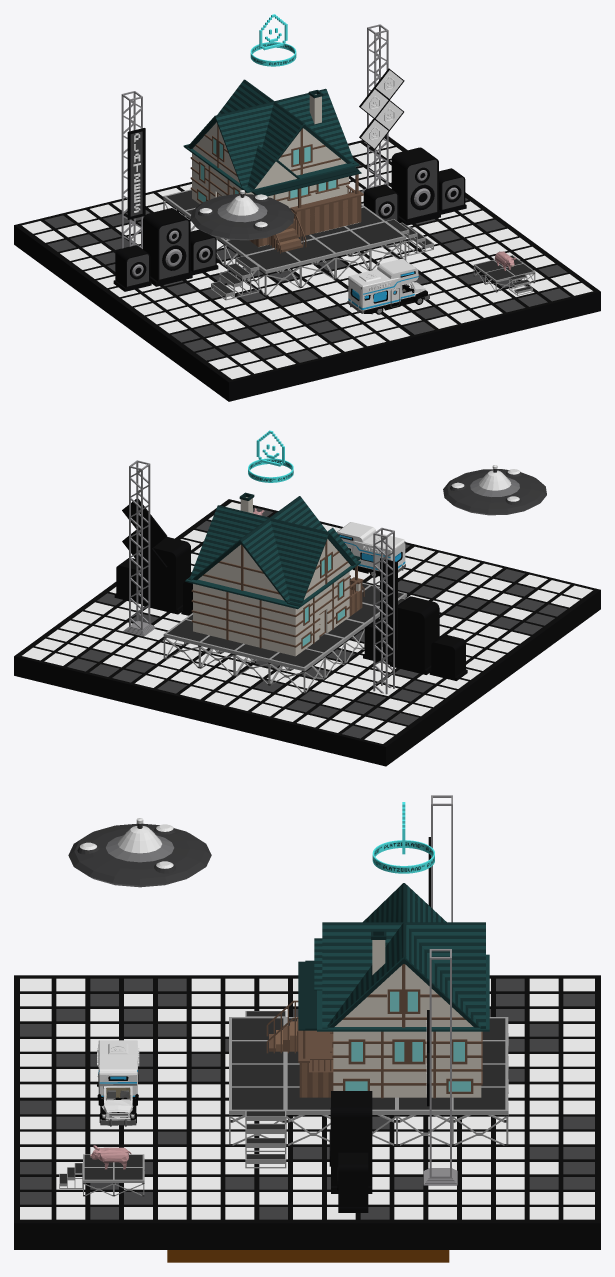
3 views of the same model, one above another, from view 1: azimuth 30°, elevation 25°; view 2: azimuth 150°, elevation 25°; view 3: azimuth 270°, elevation 25° (orthographic). The views are drawn at different scales.
Visible parts, largest first — view 1: Cube.008, Cube.793, OBJRANDOM_UFO, VEHICLES_CAMPER, TYPE_PREMIUM; view 2: Cube.008, Cube.793, OBJRANDOM_UFO, VEHICLES_CAMPER, TYPE_PREMIUM; view 3: Cube.008, Cube.793, OBJRANDOM_UFO, UNDERGROUND_ART_PIECE_VAN_GOGH, VEHICLES_CAMPER, TYPE_PREMIUM, ANIMAL_CERDO.
Boxes of the visible parts, x1,y1,x2,y2 form: Cube.008: (14,24,600,401); Cube.793: (183,79,363,253); OBJRANDOM_UFO: (190,190,294,240); VEHICLES_CAMPER: (347,258,429,314); TYPE_PREMIUM: (250,14,296,66); Cube.008: (14,460,600,766); Cube.793: (185,492,364,656); OBJRANDOM_UFO: (443,465,546,515); VEHICLES_CAMPER: (336,522,405,577); TYPE_PREMIUM: (248,430,293,482); Cube.008: (14,795,600,1249); Cube.793: (266,883,489,1098); OBJRANDOM_UFO: (68,818,211,887); UNDERGROUND_ART_PIECE_VAN_GOGH: (167,1250,449,1262); VEHICLES_CAMPER: (97,1040,139,1126); TYPE_PREMIUM: (372,802,434,873); ANIMAL_CERDO: (90,1145,131,1169).
Bounding box in the file's own units: 4000 × 2637 × 4000.
Materials: 36 (4 with a texture image).
